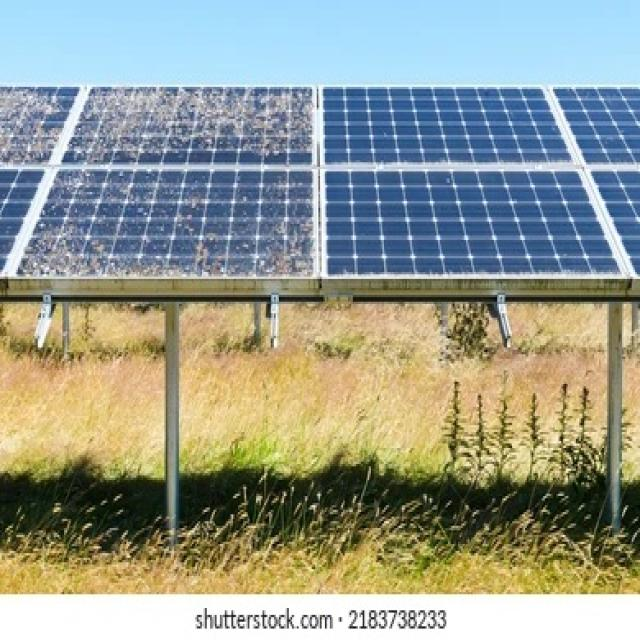dust-solar-panel: (0, 83, 320, 276)
